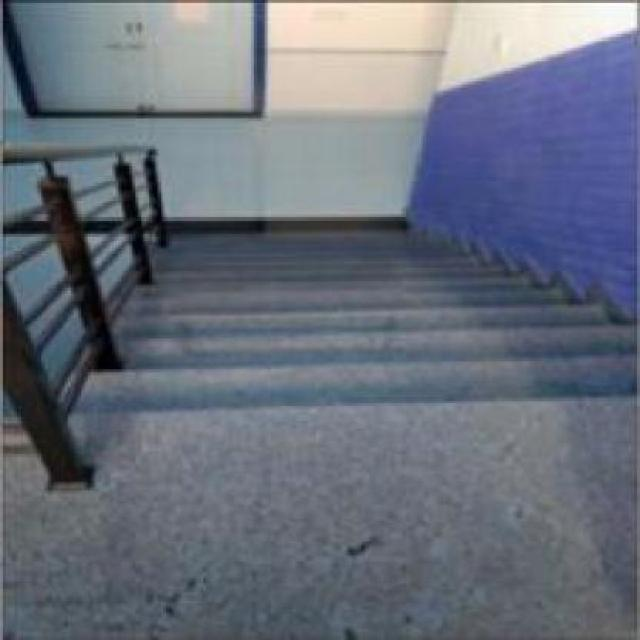stair: (122, 288, 572, 488)
